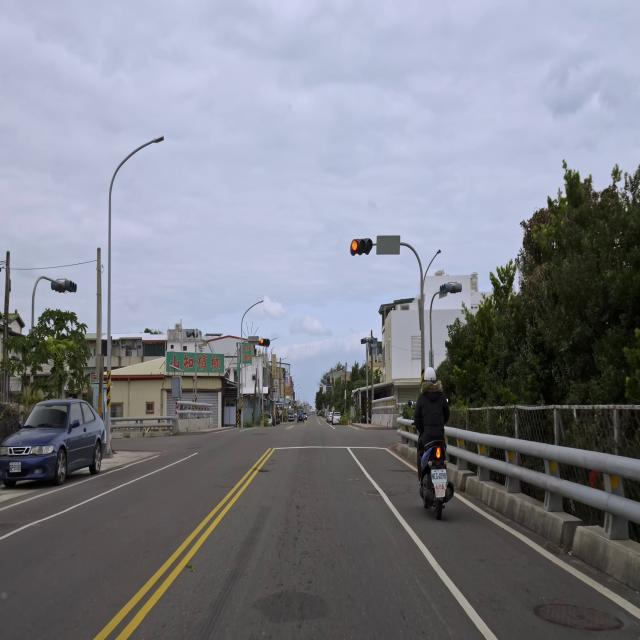red light: (349, 238, 374, 255), (260, 338, 270, 346)
